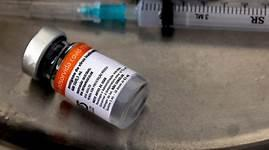Syringe: (16, 18, 154, 133)
